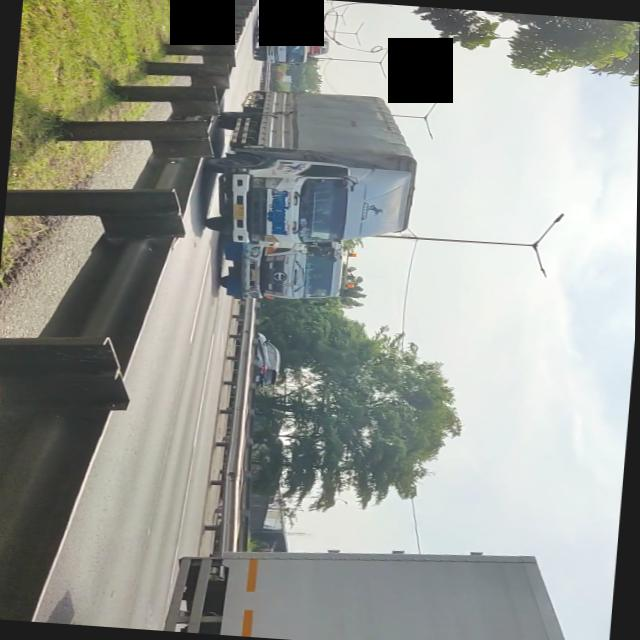Golongan II: (192, 85, 417, 256)
